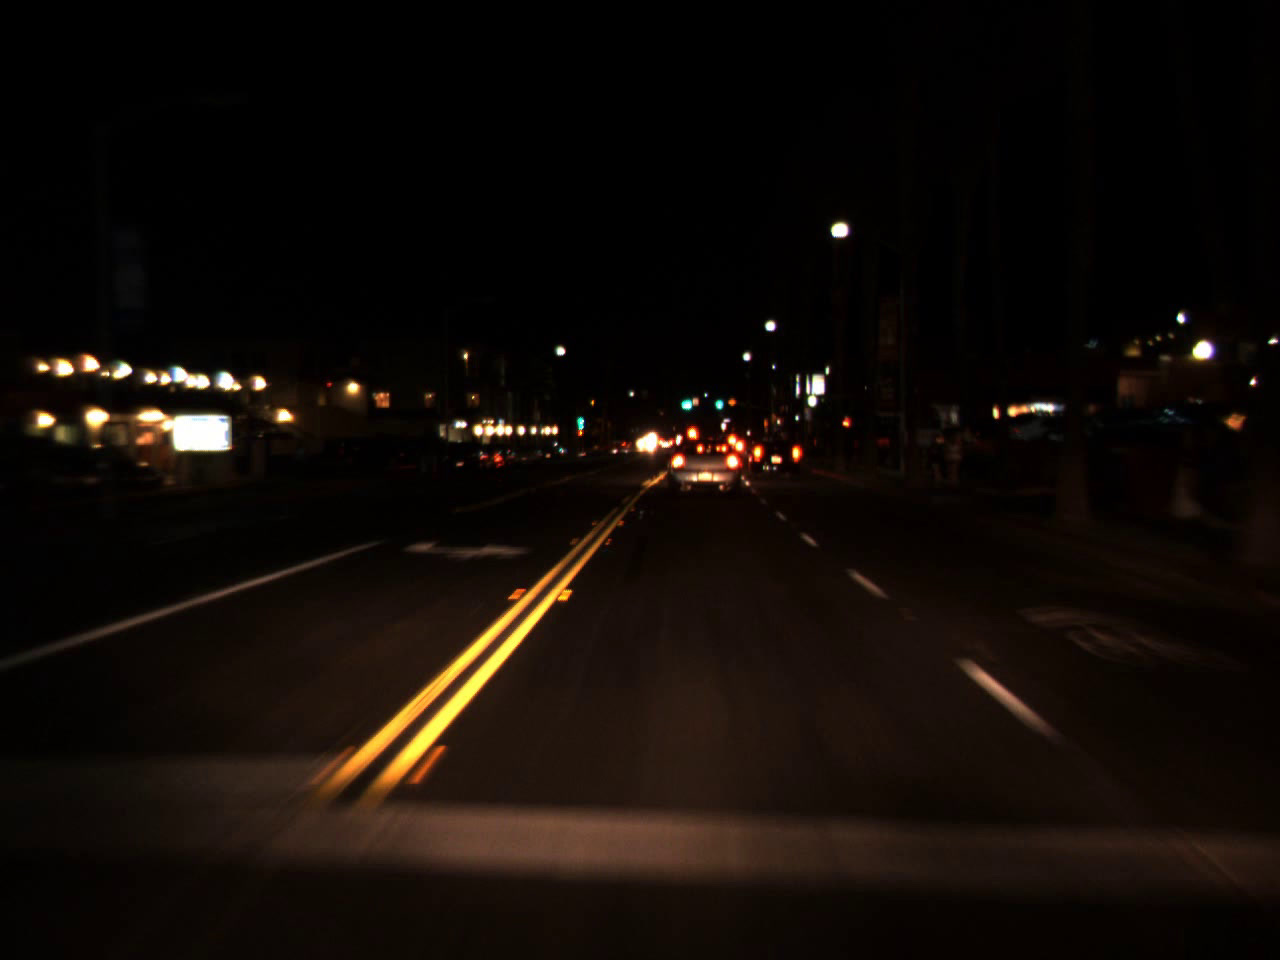go: (677, 388, 695, 412), (713, 390, 723, 411), (577, 403, 583, 430)
